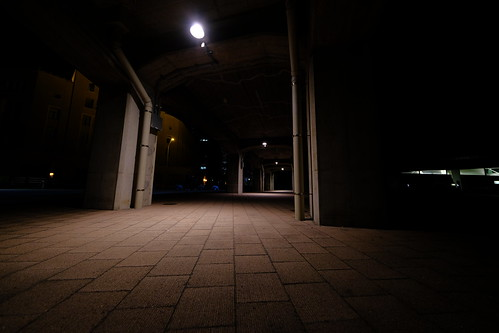collumn: (291, 1, 409, 230), (85, 74, 171, 214), (222, 149, 248, 199)
